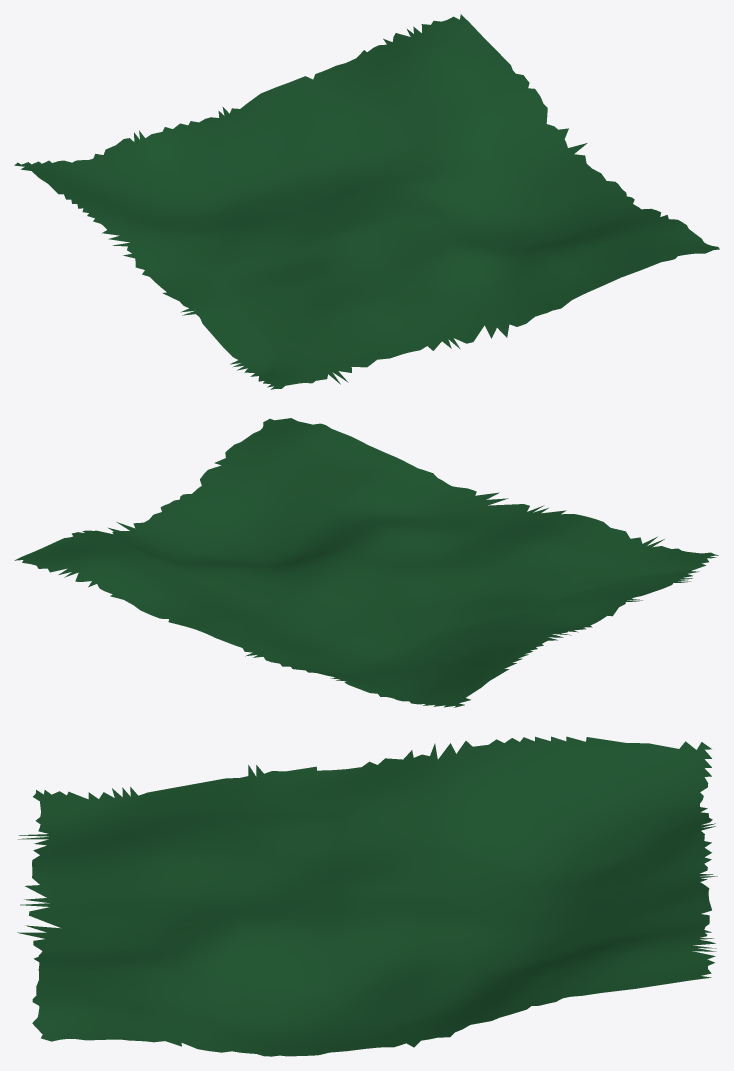
The model's file is payo_land_x3_y2.glb.
3 views of the same model, one above another, from view 1: azimuth 30°, elevation 25°; view 2: azimuth 150°, elevation 25°; view 3: azimuth 270°, elevation 25° (orthographic). The views are drawn at different scales.
Parts seen in each view (by area): view 1: payo_land_x3_y2; view 2: payo_land_x3_y2; view 3: payo_land_x3_y2.
Boxes of the visible parts, left/top/right/bottom form: payo_land_x3_y2: left=14, top=14, right=719, bottom=389; payo_land_x3_y2: left=14, top=418, right=718, bottom=707; payo_land_x3_y2: left=17, top=736, right=717, bottom=1056.
Bounding box in the file's own units: 269 × 43.63 × 269.
